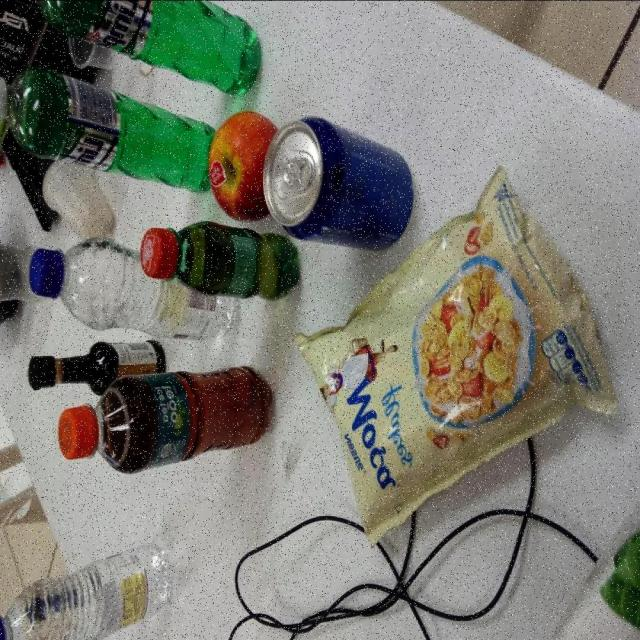Apple: (208, 112, 280, 223)
Cleaner: (0, 69, 219, 194), (31, 0, 261, 100)
CornFlakes: (294, 165, 620, 546)
EnglishSauce: (29, 339, 169, 396)
Guarana: (141, 224, 301, 300)
IceTea: (59, 364, 270, 474)
Tonic: (268, 123, 414, 249)
Water: (30, 238, 238, 344), (0, 540, 176, 640)
